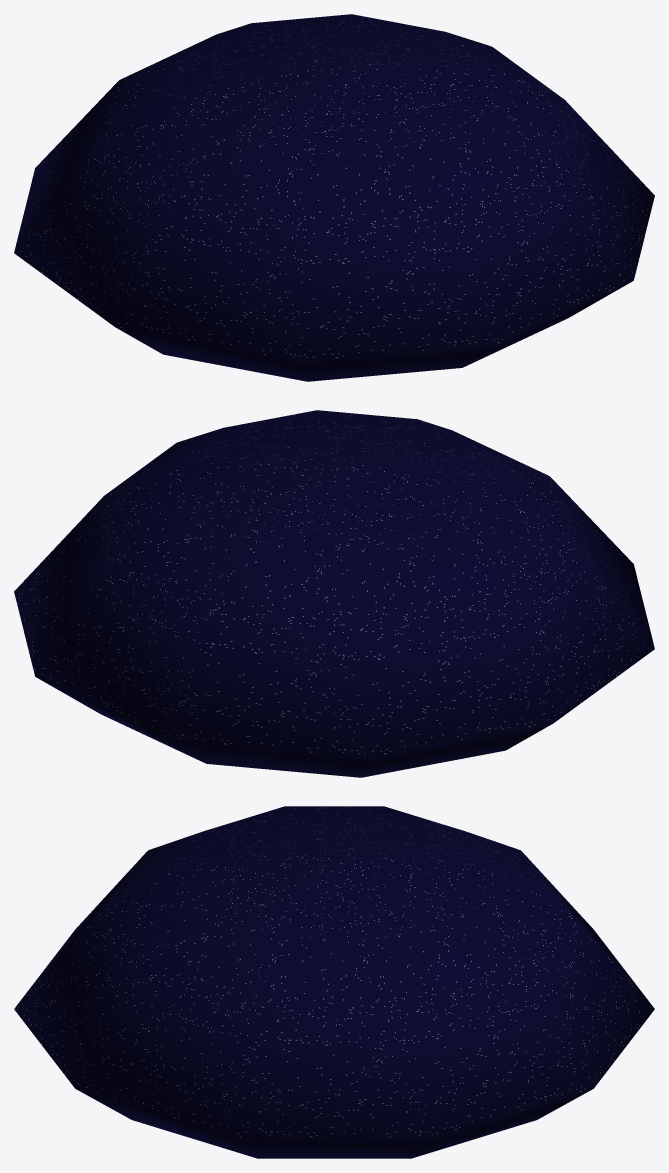
Rendered from DownTown_env.FBX.
The picture shows the model from 3 angles, top to bottom: view 1: azimuth 30°, elevation 25°; view 2: azimuth 150°, elevation 25°; view 3: azimuth 270°, elevation 25°; orthographic projection. The views are drawn at different scales.
Parts seen in each view (by area): view 1: sky dome; view 2: sky dome; view 3: sky dome.
Boxes of the visible parts, <box> form: sky dome: <box>14,14,654,381</box>; sky dome: <box>14,410,654,777</box>; sky dome: <box>14,806,654,1158</box>.
Size of the model in its own units: 60093 by 28340 by 63185.
